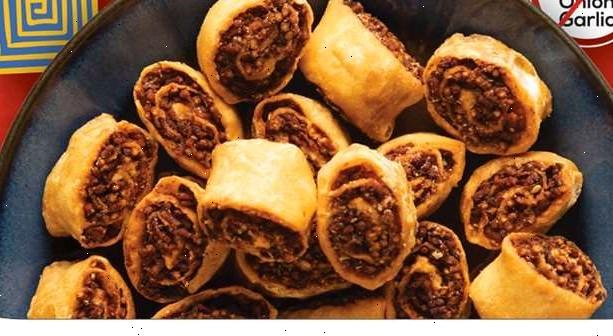bhakarwadi: (30, 0, 592, 317)
